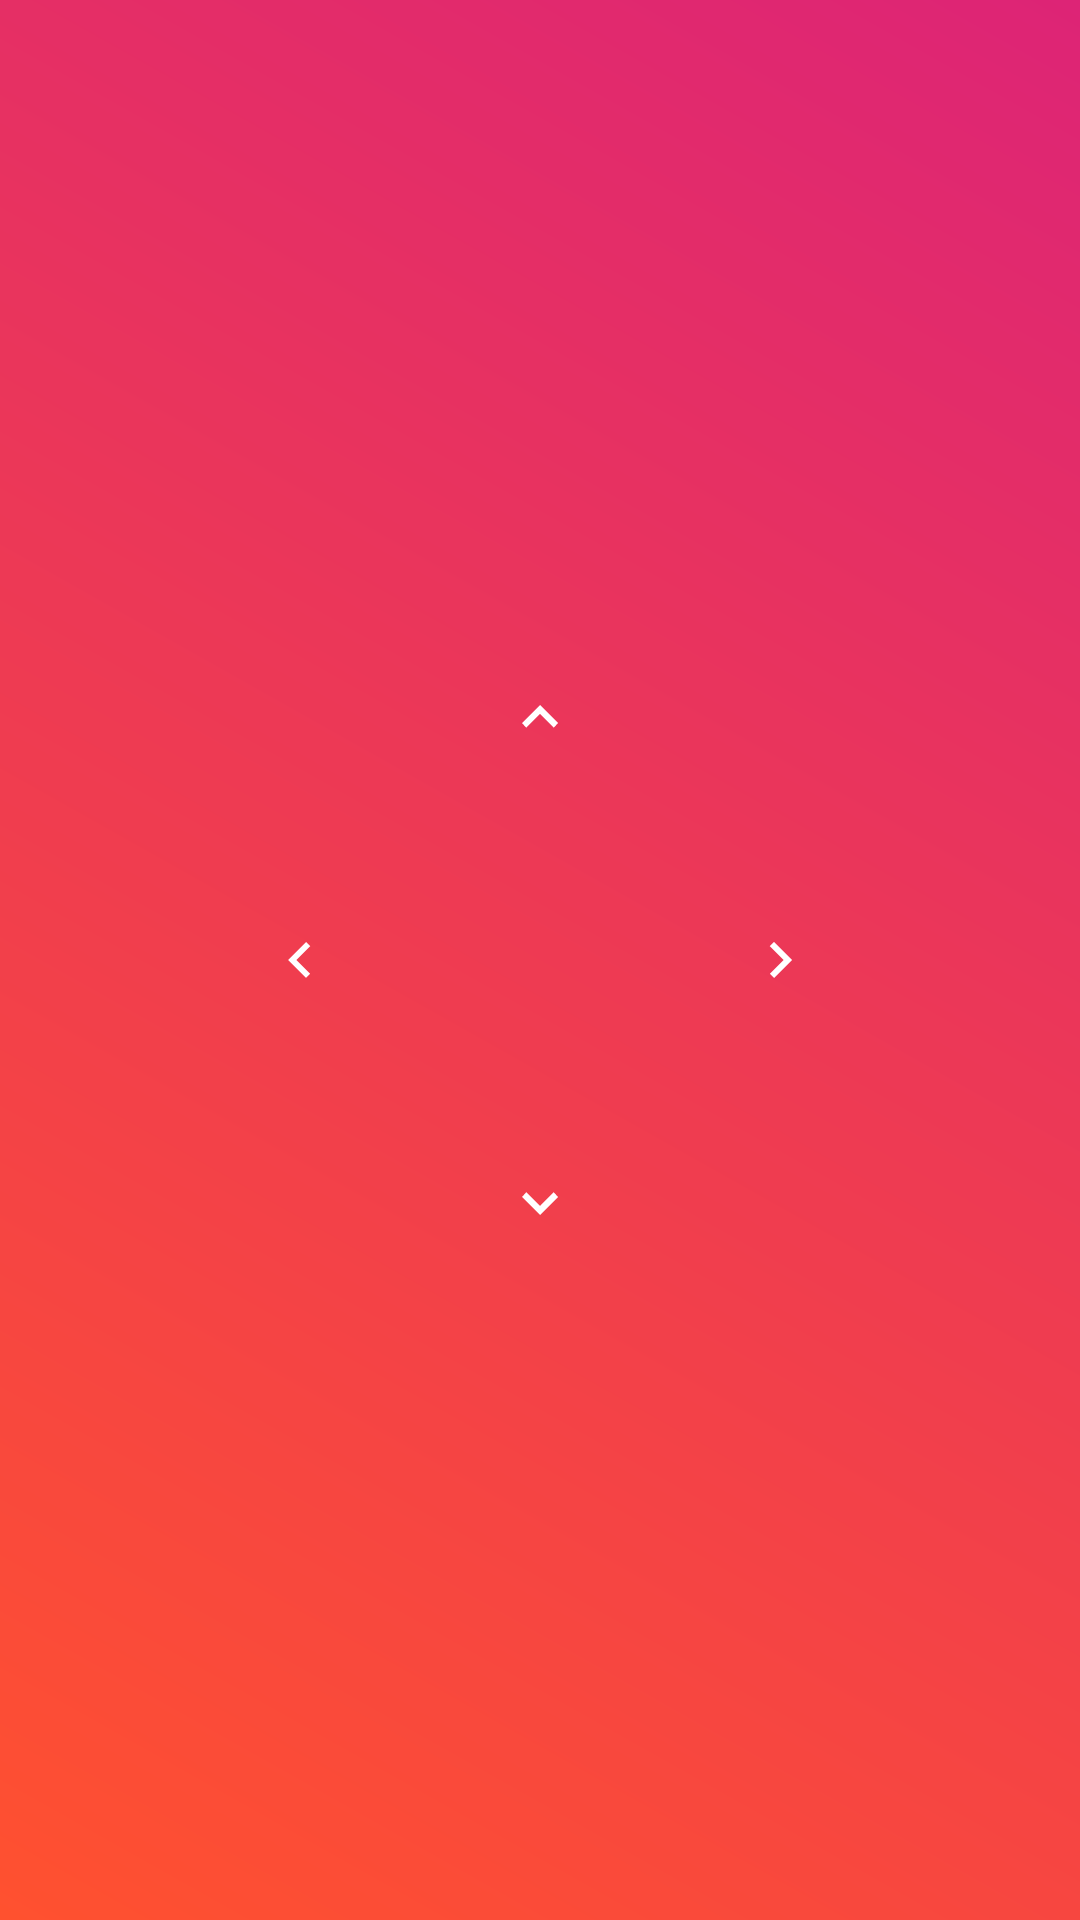

Screen size 1080x1920. Icon name, then its center in pixels as point (x, y):
down: point (540, 1203)
left: point (299, 960)
right: point (781, 960)
up: point (540, 716)
